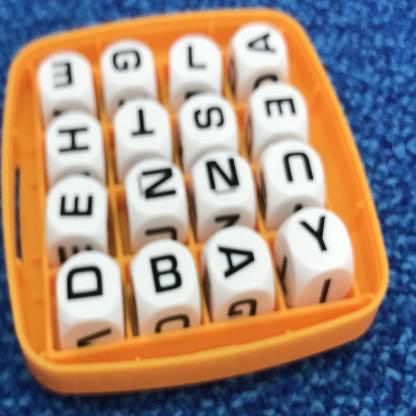a: (214, 230, 262, 292), (245, 26, 280, 66)
b: (137, 245, 194, 307)
d: (58, 258, 114, 309)
e: (53, 182, 108, 231), (261, 84, 304, 129), (44, 54, 87, 95)
g: (109, 40, 148, 79)
h: (51, 118, 98, 165)
l: (177, 36, 213, 81)
n: (131, 159, 185, 217), (200, 150, 248, 206)
s: (190, 99, 232, 136)
t: (123, 98, 167, 149)
u: (277, 147, 320, 194)
y: (297, 209, 341, 265)
